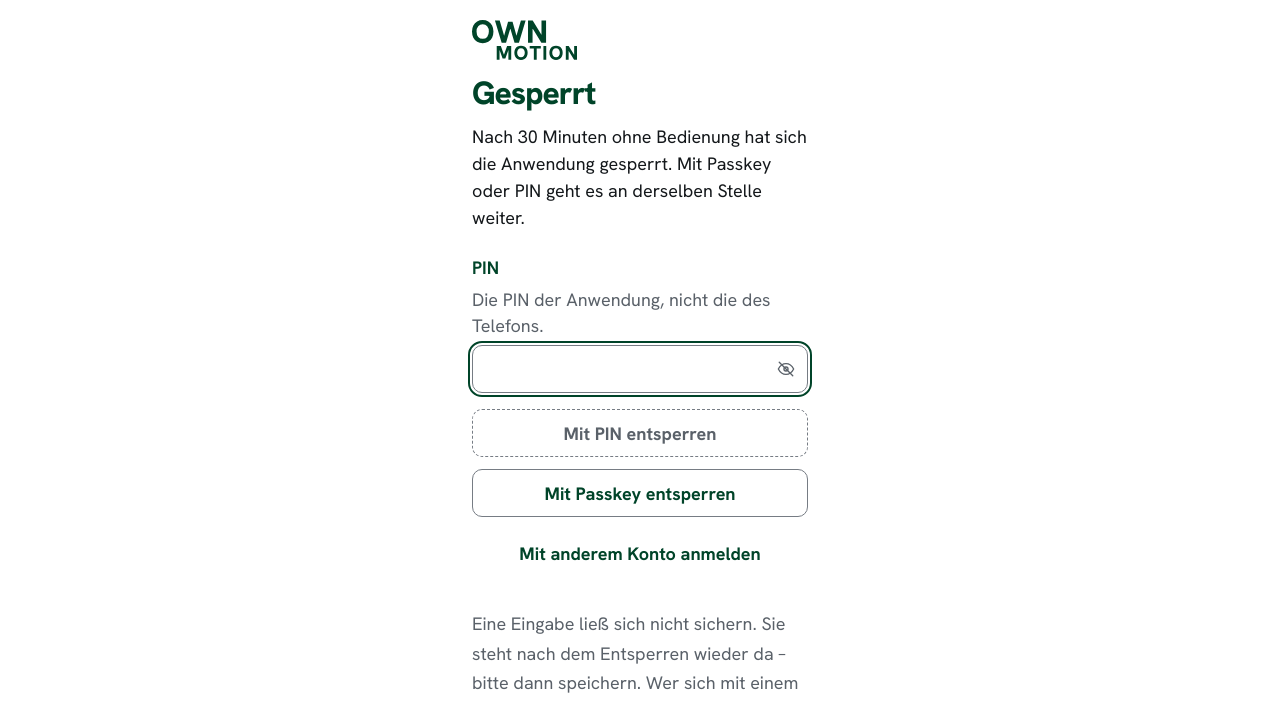
Test case: Sitzungssperre: Befunde aus dem Zweitreview › nimmt der Sperrseite nichts, wenn hinter ihr ein Fenster aufgeht, und holt es danach nach
The width and height of the screenshot is (1280, 701).
Expected: the text "Fertig" is not shown
Click the button "Mit Passkey entsperren": {"x": 640, "y": 494} [472,470,808,518]
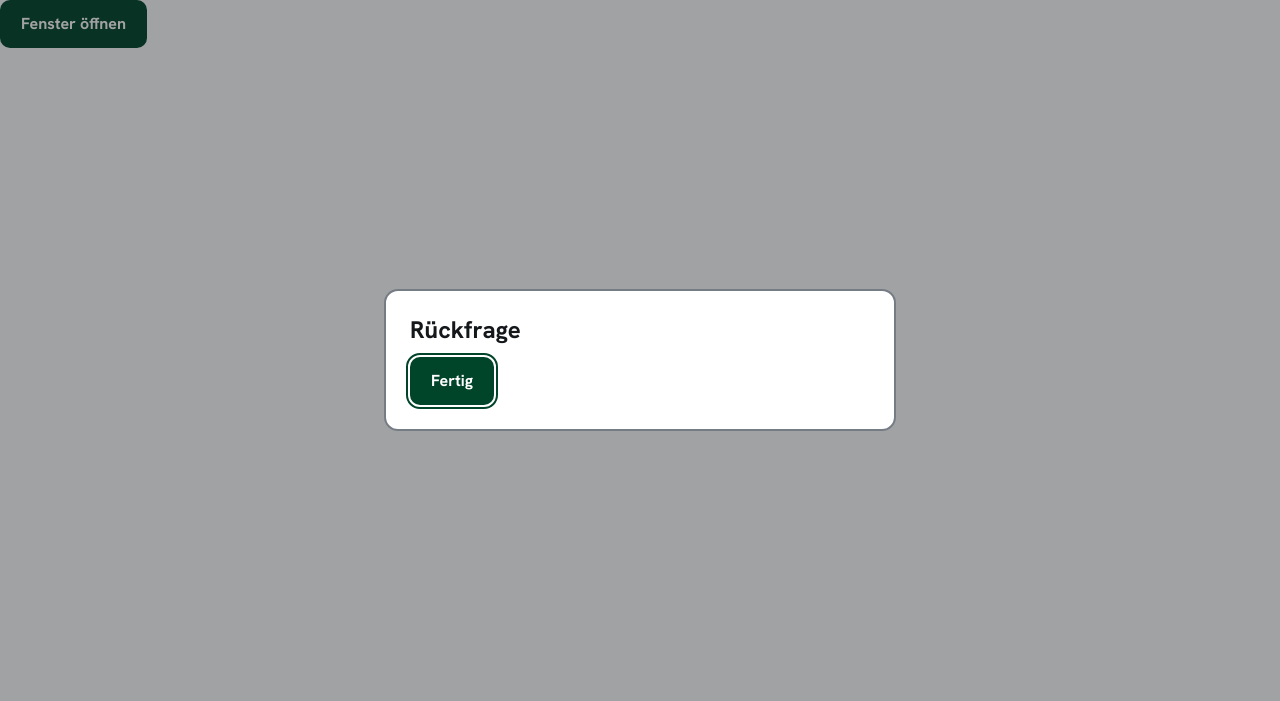
Expected: the text "Fenster öffnen" is shown, [0,0,147,48]
